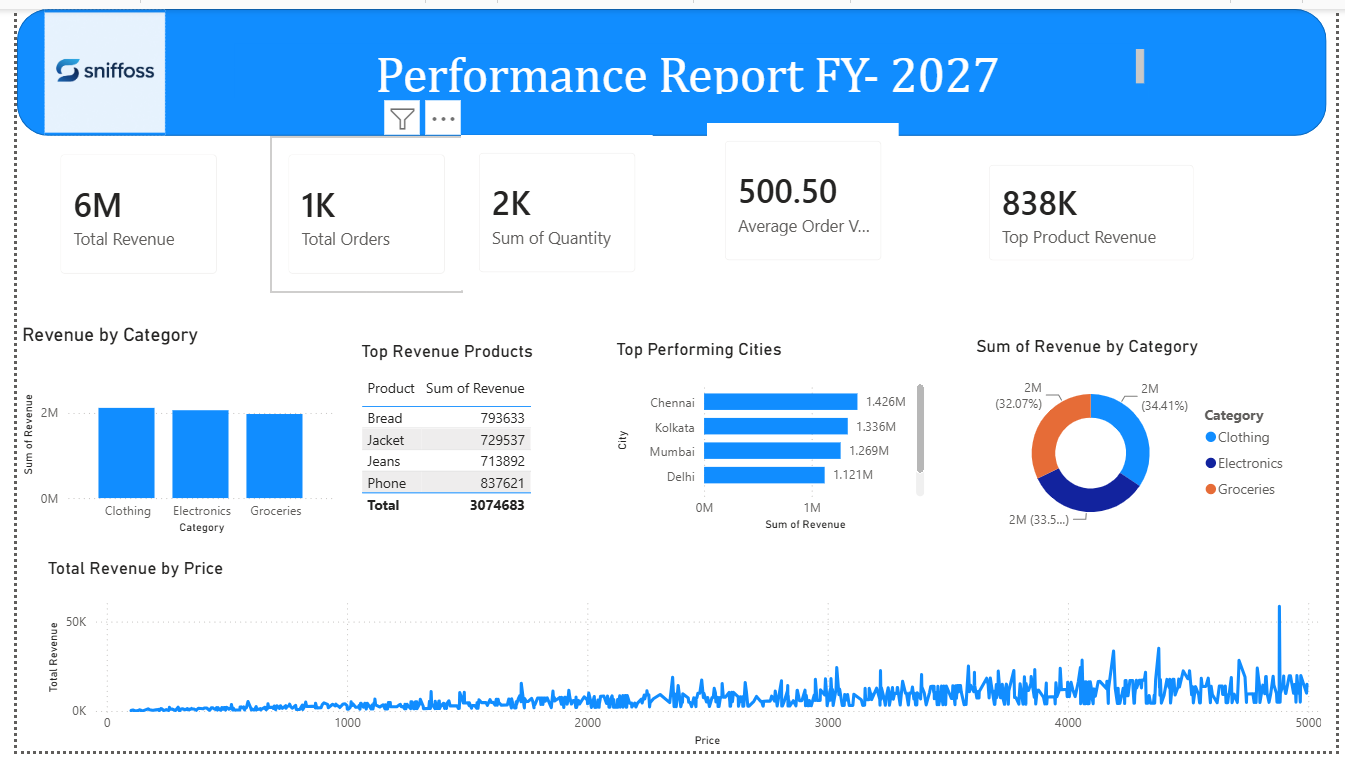

Layout of this report page (visuals, bound fields, positions):
{"tool":"powerbi","page":{"name":"Page 1","canvas":[1280,720],"ordinal":0},"visuals":[{"type":"shape","box":[0,0,1270.8,123.1],"z":0},{"type":"image","box":[25.9,0,118.2,123.1],"z":1000},{"type":"textbox","box":[210.5,34,887.3,53.4],"z":2000},{"type":"cardVisual","fields":{"Data":["Sum(sniffoss (2).Revenue)"]},"box":[24.8,124.1,186.1,150.4],"z":3000},{"type":"lineChart","fields":{"Y":["Sum(sniffoss (2).Revenue)"],"Category":["sniffoss (2).Price"]},"box":[25.2,532.4,1245.9,187.4],"z":4000},{"type":"columnChart","title":"Revenue by Category","fields":{"Category":["sniffoss (2).Category"],"Y":["Sum(sniffoss (2).Revenue)"]},"box":[0,305.6,313.4,207.9],"z":5000},{"type":"tableEx","title":"Top Revenue Products","fields":{"Values":["sniffoss (2).Product","Sum(sniffoss (2).Revenue)"]},"box":[329.2,321.3,204.8,192.2],"z":6000},{"type":"cardVisual","fields":{"Data":["CountNonNull(sniffoss (2).Revenue)"]},"box":[245.7,124.4,186.1,150.4],"z":7000},{"type":"cardVisual","fields":{"Data":["Sum(sniffoss (2).Quantity)"]},"box":[431.6,122.9,186.1,150.4],"z":8000},{"type":"clusteredBarChart","title":"Top Performing Cities","fields":{"Category":["sniffoss (2).City"],"Y":["Sum(sniffoss (2).Revenue)"]},"box":[576.5,319.7,308.7,190.6],"z":9000},{"type":"cardVisual","fields":{"Data":["Avg(sniffoss (2).OrderID)"]},"box":[669.4,110.3,186.1,150.4],"z":10000},{"type":"donutChart","fields":{"Category":["sniffoss (2).Category"],"Y":["Sum(sniffoss (2).Revenue)"]},"box":[926.1,316.6,316.6,196.9],"z":11000},{"type":"cardVisual","fields":{"Data":["sniffoss (2).Top Product Revenue"]},"box":[926.1,133.9,233.1,127.6],"z":12000}]}

Visuals, with their boxes in screenshot pixels (x1, y1, x2, y2), scaled from the page's 1280x720 canvas onto the 1345x759 screenshot:
shape: region(0, 0, 1335, 130)
image: region(27, 0, 151, 130)
textbox: region(221, 36, 1154, 92)
cardVisual - Sum(sniffoss (2).Revenue): region(26, 131, 222, 289)
lineChart - Sum(sniffoss (2).Revenue) x sniffoss (2).Price: region(26, 561, 1336, 758)
"Revenue by Category" columnChart: region(0, 322, 329, 541)
"Top Revenue Products" tableEx: region(346, 339, 561, 541)
cardVisual - CountNonNull(sniffoss (2).Revenue): region(258, 131, 454, 290)
cardVisual - Sum(sniffoss (2).Quantity): region(454, 130, 649, 288)
"Top Performing Cities" clusteredBarChart: region(606, 337, 930, 538)
cardVisual - Avg(sniffoss (2).OrderID): region(703, 116, 899, 275)
donutChart - sniffoss (2).Category x Sum(sniffoss (2).Revenue): region(973, 334, 1306, 541)
cardVisual - sniffoss (2).Top Product Revenue: region(973, 141, 1218, 276)
